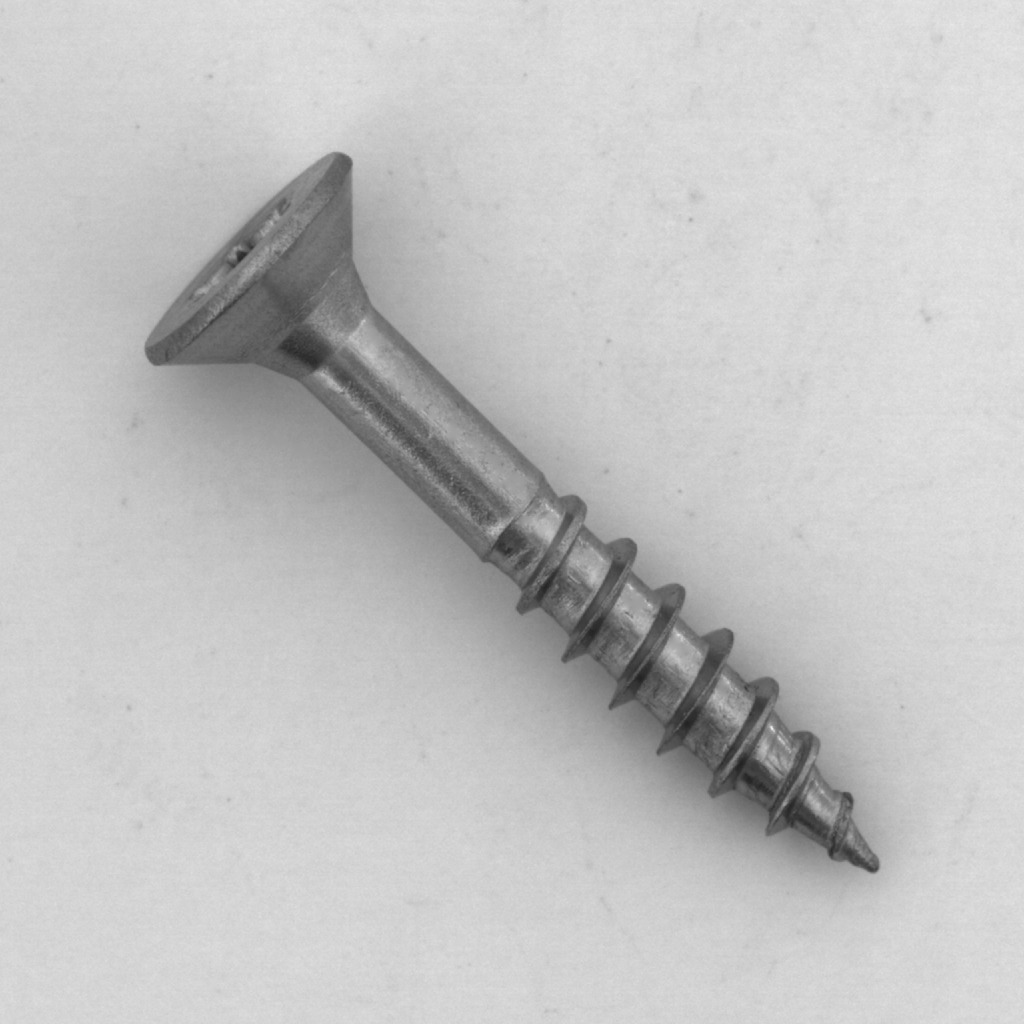good: (120, 132, 917, 894)
